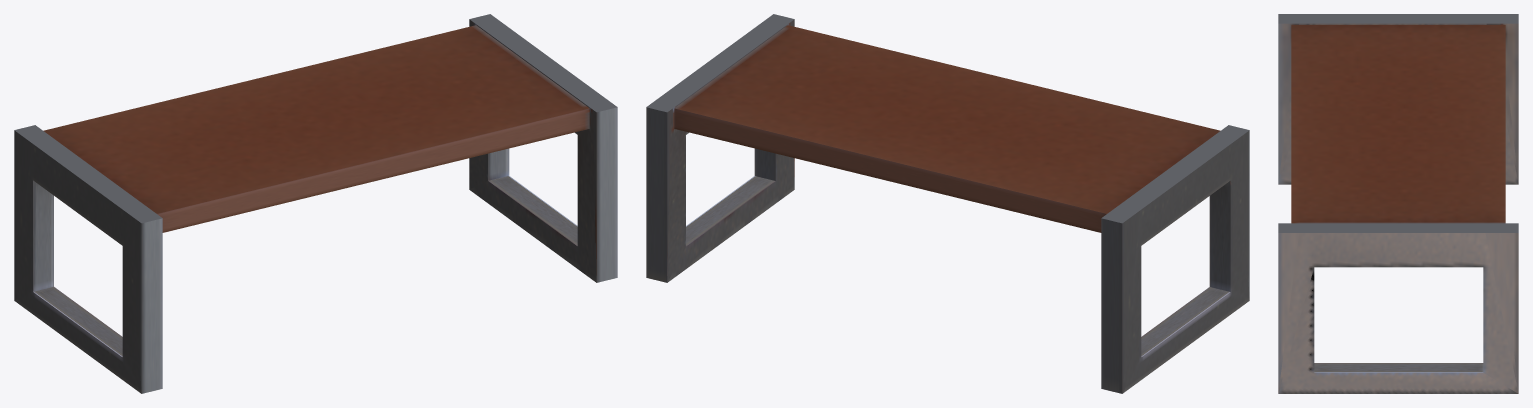
File: shelf03.fbx
The picture shows the model from 3 angles, left to right: view 1: azimuth 30°, elevation 25°; view 2: azimuth 150°, elevation 25°; view 3: azimuth 270°, elevation 25°; orthographic projection. The views are drawn at different scales.
Visible parts, largest first — view 1: shelving; view 2: shelving; view 3: shelving.
Boxes of the visible parts, x1,y1,x2,y2 form: shelving: [14, 14, 617, 393]; shelving: [646, 14, 1249, 393]; shelving: [1278, 14, 1518, 393].
Bounding box in the file's own units: 1 × 0.4658 × 0.344.
1 material, 1 textured.
